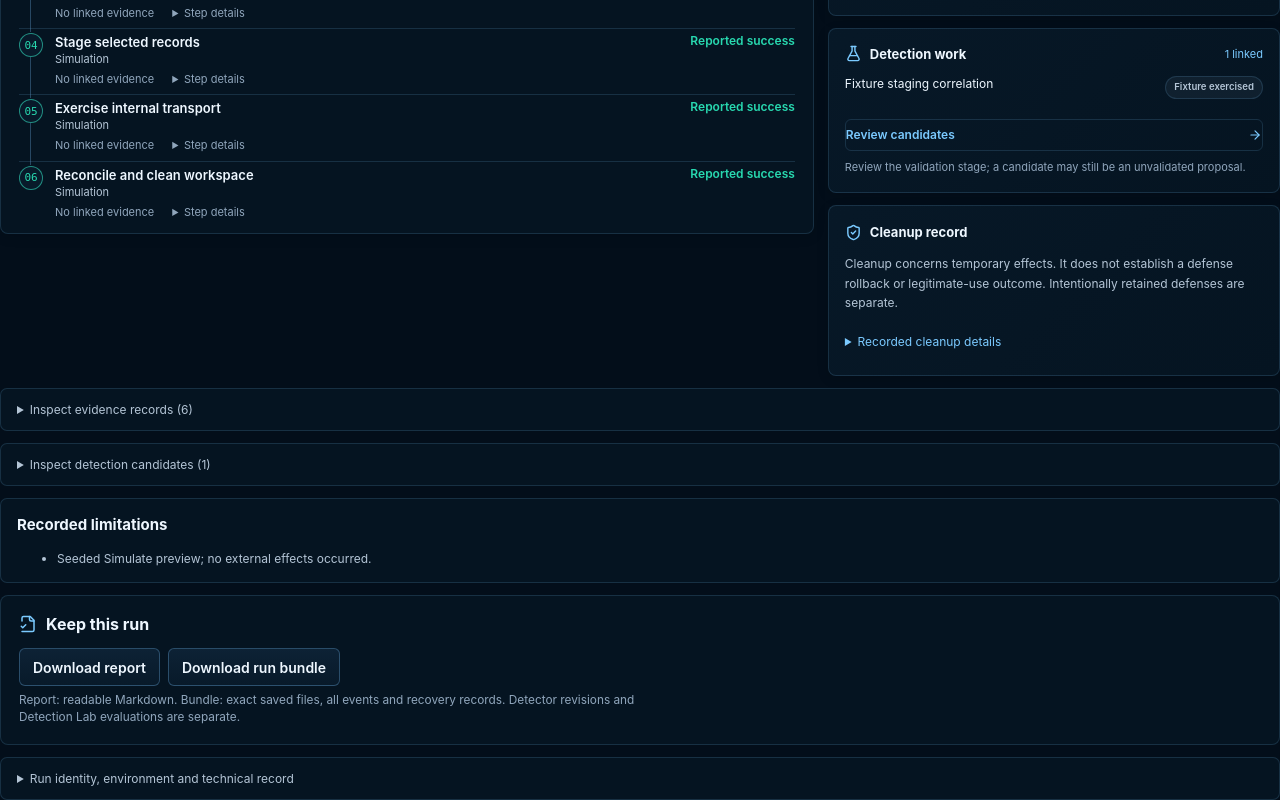
it: shows the retained authorized scope with legacy fallback: {"authorized_target_scope":{"scope_refs":[]},"target_scope":{"scope_refs":["legacy.workspace"]}}
This screenshot has width=1280, height=800.
(page scrolled)
Click the heading "Run identity, environment and technical record" at (162, 778), box top-left (30, 771), bottom-right (294, 786)
(page scrolled)
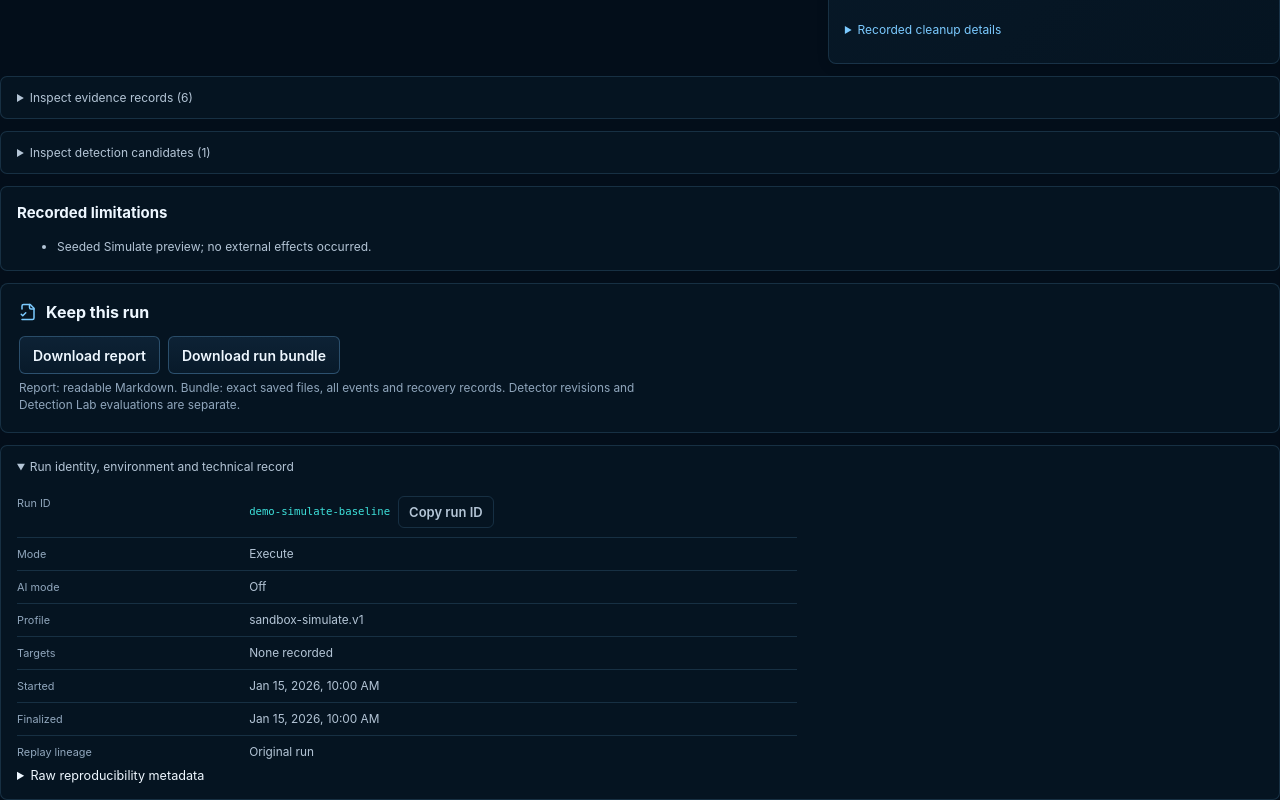
Expected: the text "None recorded" is shown, top-left (249, 646), bottom-right (333, 660)
